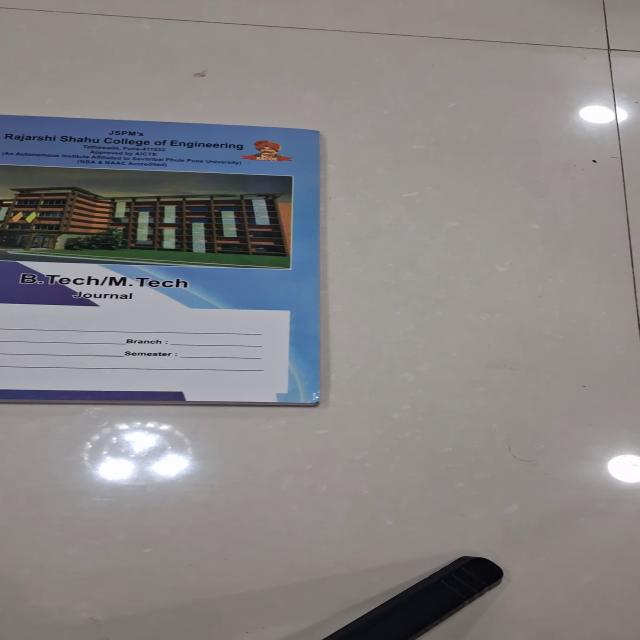paper: (0, 114, 322, 405)
